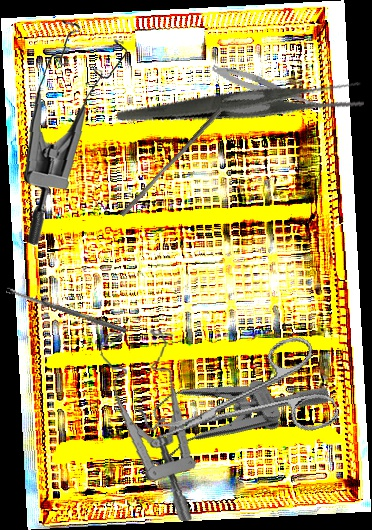Dressing Forceps: (115, 30, 369, 174)
Iris Scissors: (143, 331, 341, 474)
Micro Scissor: (209, 61, 328, 113)
Pusher: (119, 102, 224, 221)
Speculum: (119, 325, 334, 493), (18, 17, 134, 246), (84, 324, 211, 522)
Surgical Spoon: (5, 286, 128, 334)
